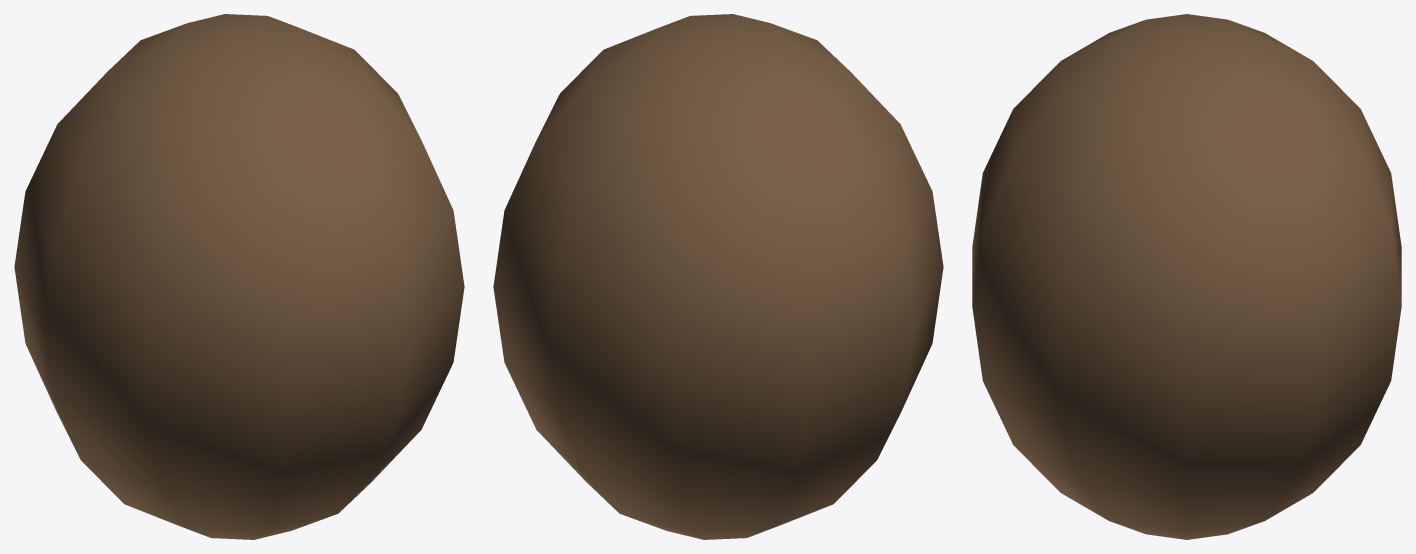
Rendered from Grãozinho_stage1.obj.
3 views of the same model, side by side, from view 1: azimuth 30°, elevation 25°; view 2: azimuth 150°, elevation 25°; view 3: azimuth 270°, elevation 25° (orthographic).
Bounding box in the file's own units: 1.6 × 1.92 × 1.52.
